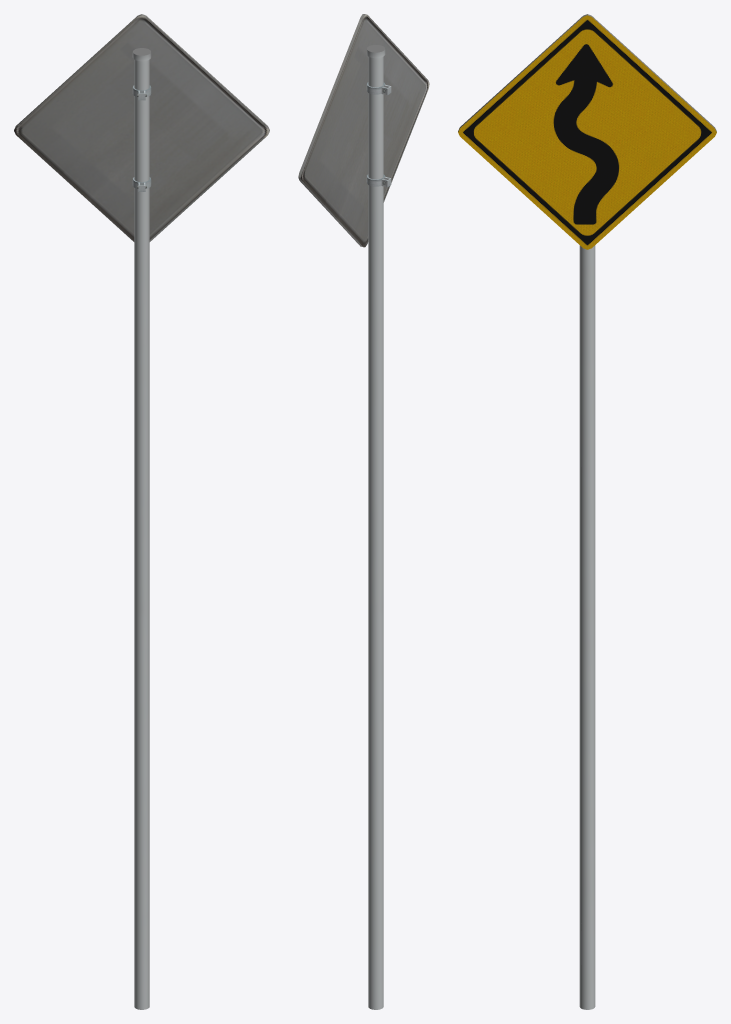
The model's file is Preset_Sign206.fbx.
3 views of the same model, side by side, from view 1: azimuth 90°, elevation 25°; view 2: azimuth 150°, elevation 25°; view 3: azimuth 270°, elevation 25° (orthographic).
Visible parts, largest first — view 1: Sign208_Back, PoleV; view 2: PoleV, Sign208_Back; view 3: Sign206, PoleV.
Part boxes in pixels (box(x1,y1,x2,y2)): Sign208_Back: box(14, 14, 269, 241); PoleV: box(132, 48, 151, 1009); PoleV: box(366, 45, 391, 1009); Sign208_Back: box(298, 14, 429, 247); Sign206: box(458, 15, 716, 249); PoleV: box(579, 245, 595, 1009).
Size of the model in its own units: 10.13 by 83 by 353.
Materials: 3 (3 with a texture image).
